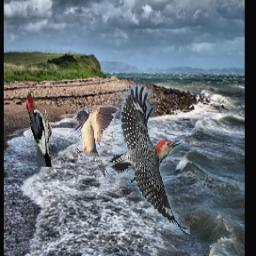Swallow: (74, 106, 124, 194)
Woodpecker: (107, 86, 190, 235), (25, 89, 52, 167)
